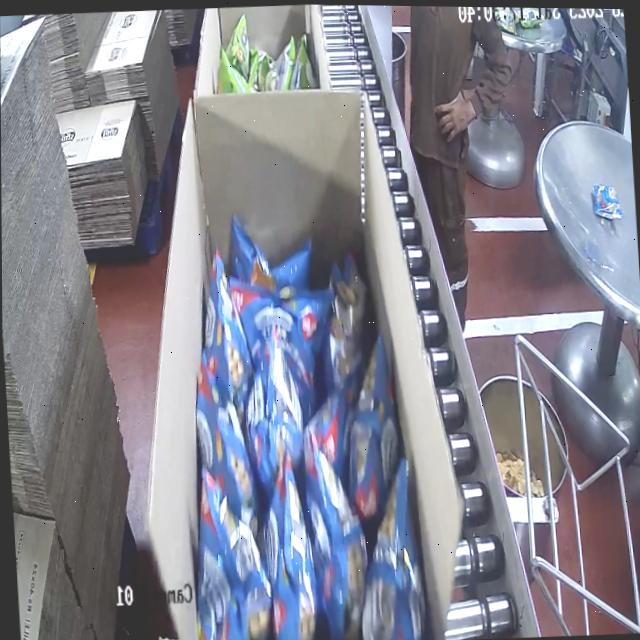PAPRIKA: (170, 210, 424, 640)
